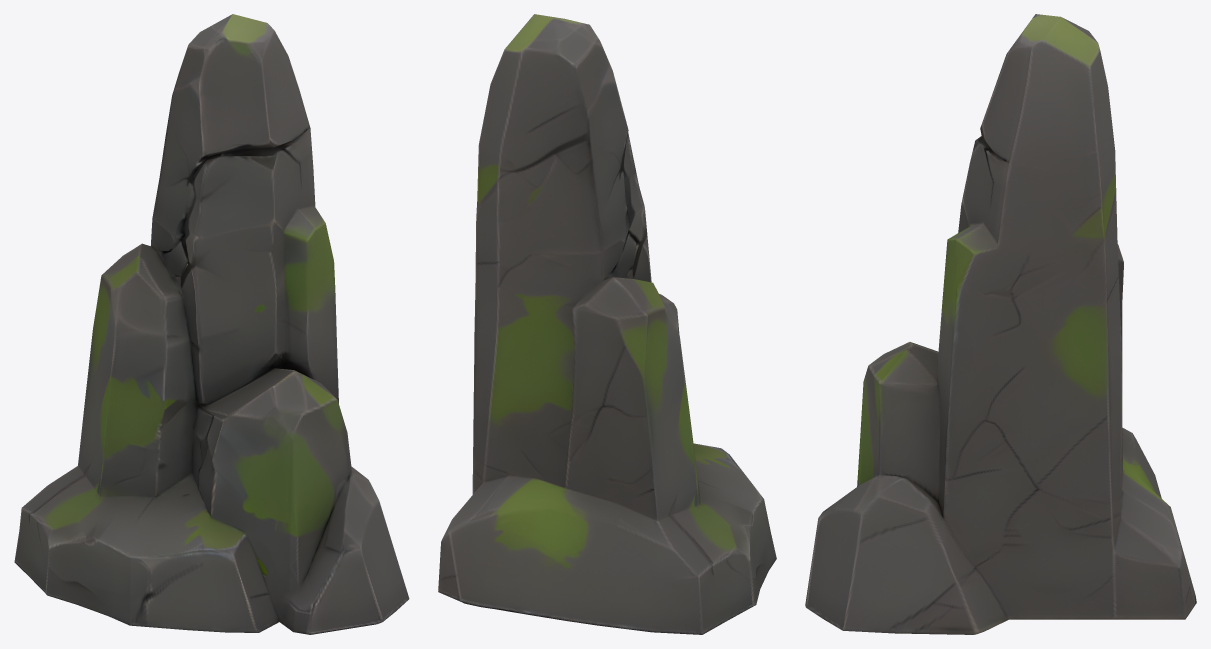
The model's file is base_basic_shaded.fbx.
3 views of the same model, side by side, from view 1: azimuth 30°, elevation 25°; view 2: azimuth 150°, elevation 25°; view 3: azimuth 270°, elevation 25° (orthographic). The views are drawn at different scales.
Visible parts, largest first — view 1: model; view 2: model; view 3: model.
Part boxes in pixels (x1,y1,x2,y2): model: (14,14,409,634); model: (438,14,776,634); model: (805,14,1196,634).
Size of the model in its own units: 99.72 by 184 by 113.
